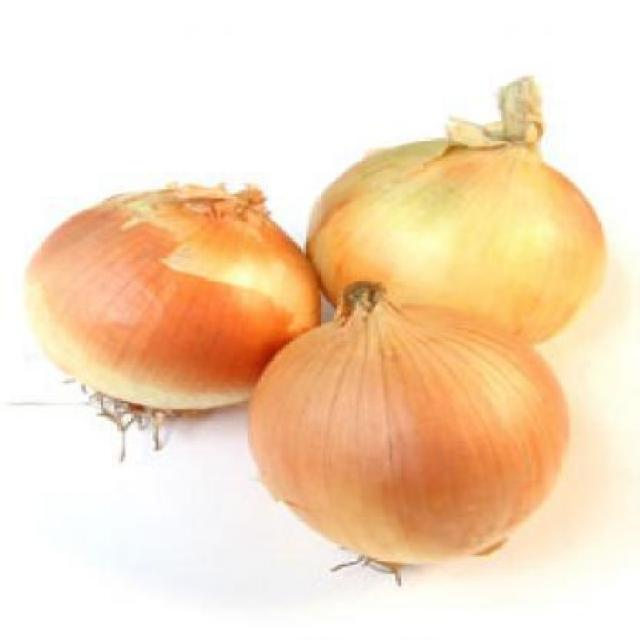onion: (250, 304, 556, 563), (298, 103, 604, 328), (24, 186, 289, 426)
